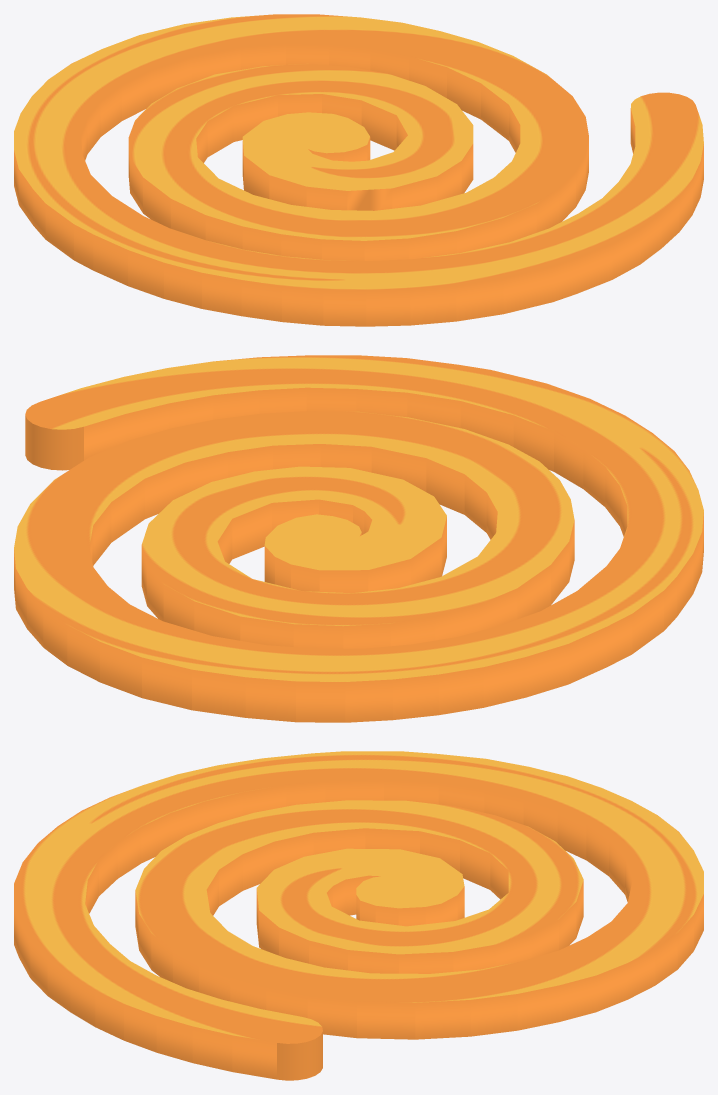
The model's file is Mustard_Slice_Mustrard_0.glb.
3 renders of one model, top to bottom at view 1: azimuth 30°, elevation 25°; view 2: azimuth 150°, elevation 25°; view 3: azimuth 270°, elevation 25°, orthographic. The views are drawn at different scales.
Visible parts, largest first — view 1: Mustard_Slice_Mustrard_0; view 2: Mustard_Slice_Mustrard_0; view 3: Mustard_Slice_Mustrard_0.
Part boxes in pixels (<box>): Mustard_Slice_Mustrard_0: <box>14,14,703,326</box>; Mustard_Slice_Mustrard_0: <box>14,355,703,722</box>; Mustard_Slice_Mustrard_0: <box>14,751,703,1080</box>.
Size of the model in its own units: 0.1706 by 0.01 by 0.17.
1 material, 1 textured.
